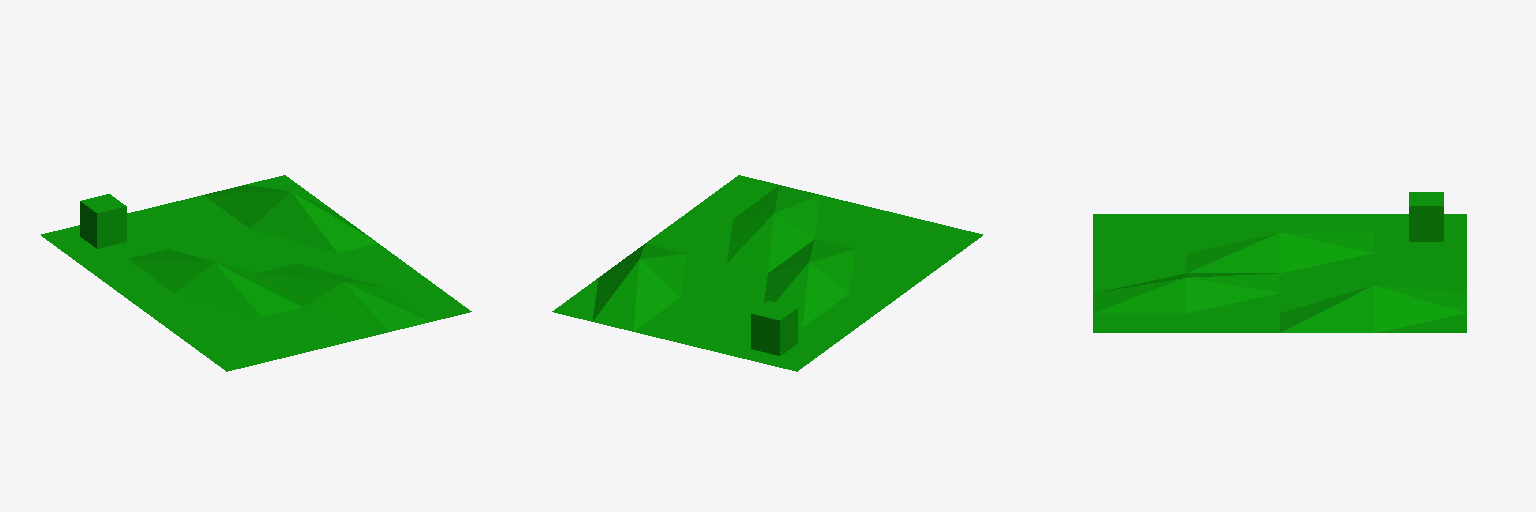
File: Ground.obj
The picture shows the model from 3 angles: view 1: azimuth 30°, elevation 25°; view 2: azimuth 150°, elevation 25°; view 3: azimuth 270°, elevation 25°; orthographic projection.
Parts seen in each view (by area): view 1: Plane; view 2: Plane; view 3: Plane.
Boxes of the visible parts, x1=… form: Plane: x1=41, y1=175, x2=471, y2=371; Plane: x1=552, y1=175, x2=982, y2=371; Plane: x1=1093, y1=192, x2=1466, y2=332.
Size of the model in its own units: 114 by 16.21 by 151.